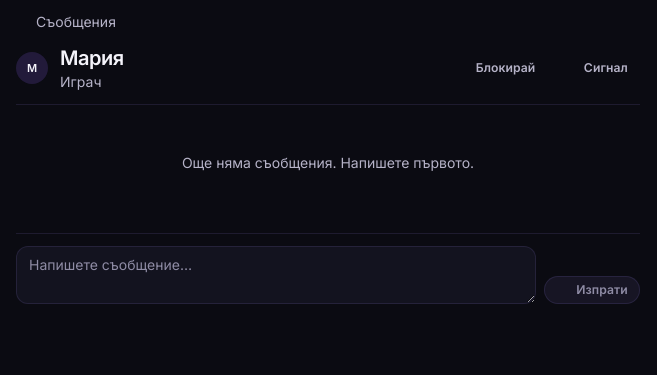
Test case: ConversationView › sends: the line shows at once, the draft clears, and a refusal puts the draft back
The image size is (657, 375).
Type "Утре в 18?" into the text box with test id "conversation-input".
click(276, 275); type("Утре в 18?")  # box [16, 246, 536, 304]
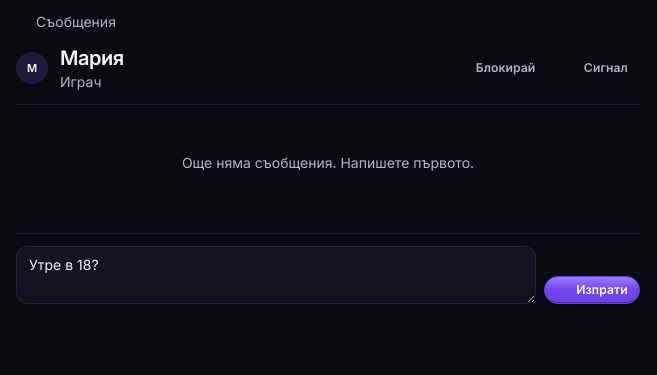
Click the button with test id "conversation-send".
click(592, 290)  # box [544, 276, 640, 304]
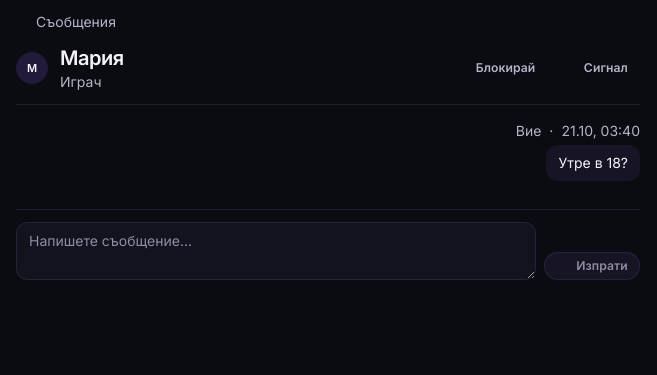
Check: the text box with test id "conversation-input" is empty
Type "Ехо?" into the text box with test id "conversation-input".
click(276, 251); type("Ехо?")  # box [16, 222, 536, 280]
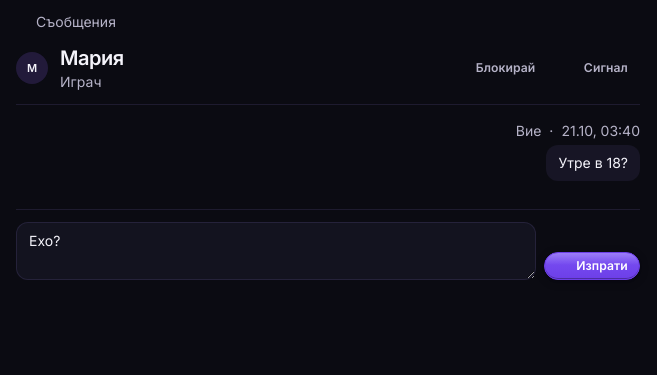
Click the button with test id "conversation-send".
click(592, 266)  # box [544, 252, 640, 280]
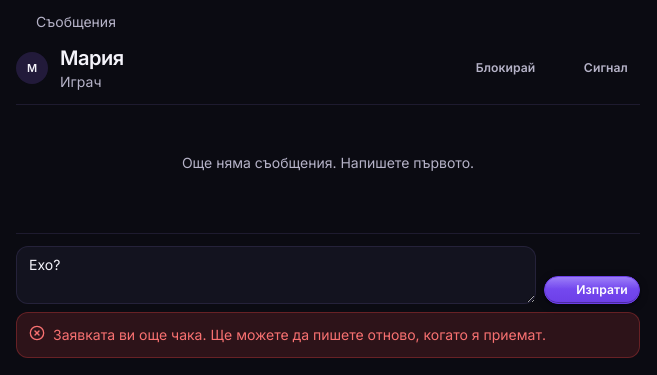
Check: the message with test id "conversation-send-error" reads "Заявката ви още чака. Ще можете да пишете отново, когато я приемат.", box [53, 326, 546, 343]
